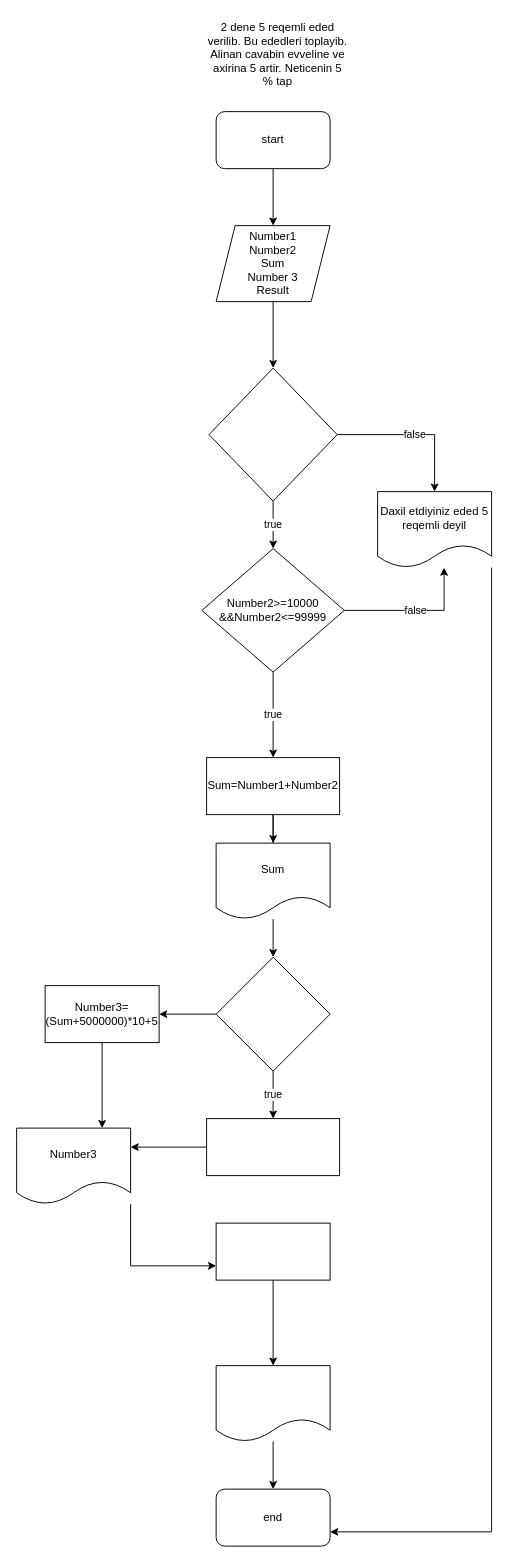
Image size: 516x1563. Some labels were removed from this diagram. The shapes that lost their labels are listed below. From the top down, each one's centre as x and y in pixels, then its label:
At point (272, 434): "Number1>=10000 &&Number1<=99999".
At point (272, 1013): "Sum>=10000&& Sum<=99999".
At point (273, 1147): "Number3=(Sum+500000)*10+5".
At point (272, 1251): "result=Number3*5/100".
At point (272, 1403): "result".
